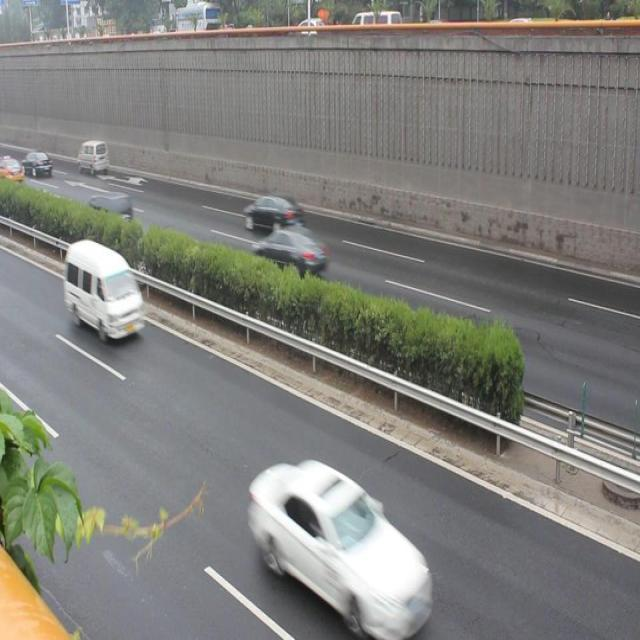car: (237, 436, 436, 640), (253, 221, 327, 282), (238, 189, 304, 232), (89, 183, 135, 231)
truck: (60, 237, 150, 352)
